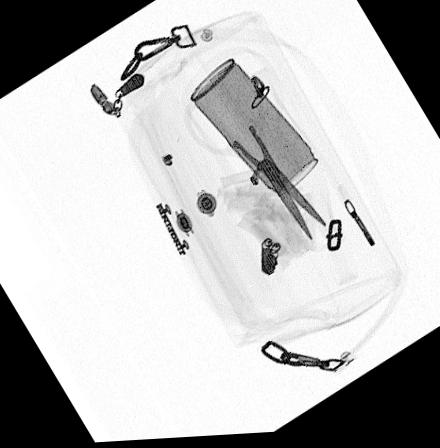Scissors: (180, 75, 330, 247)
